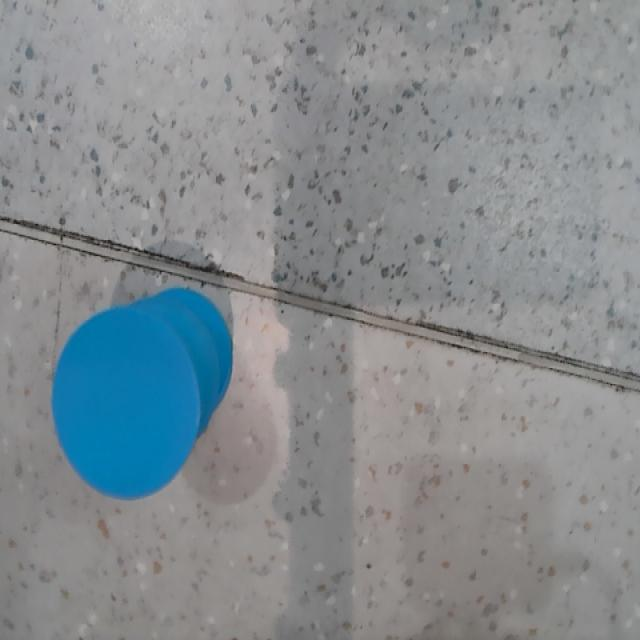b: (53, 308, 199, 500)
